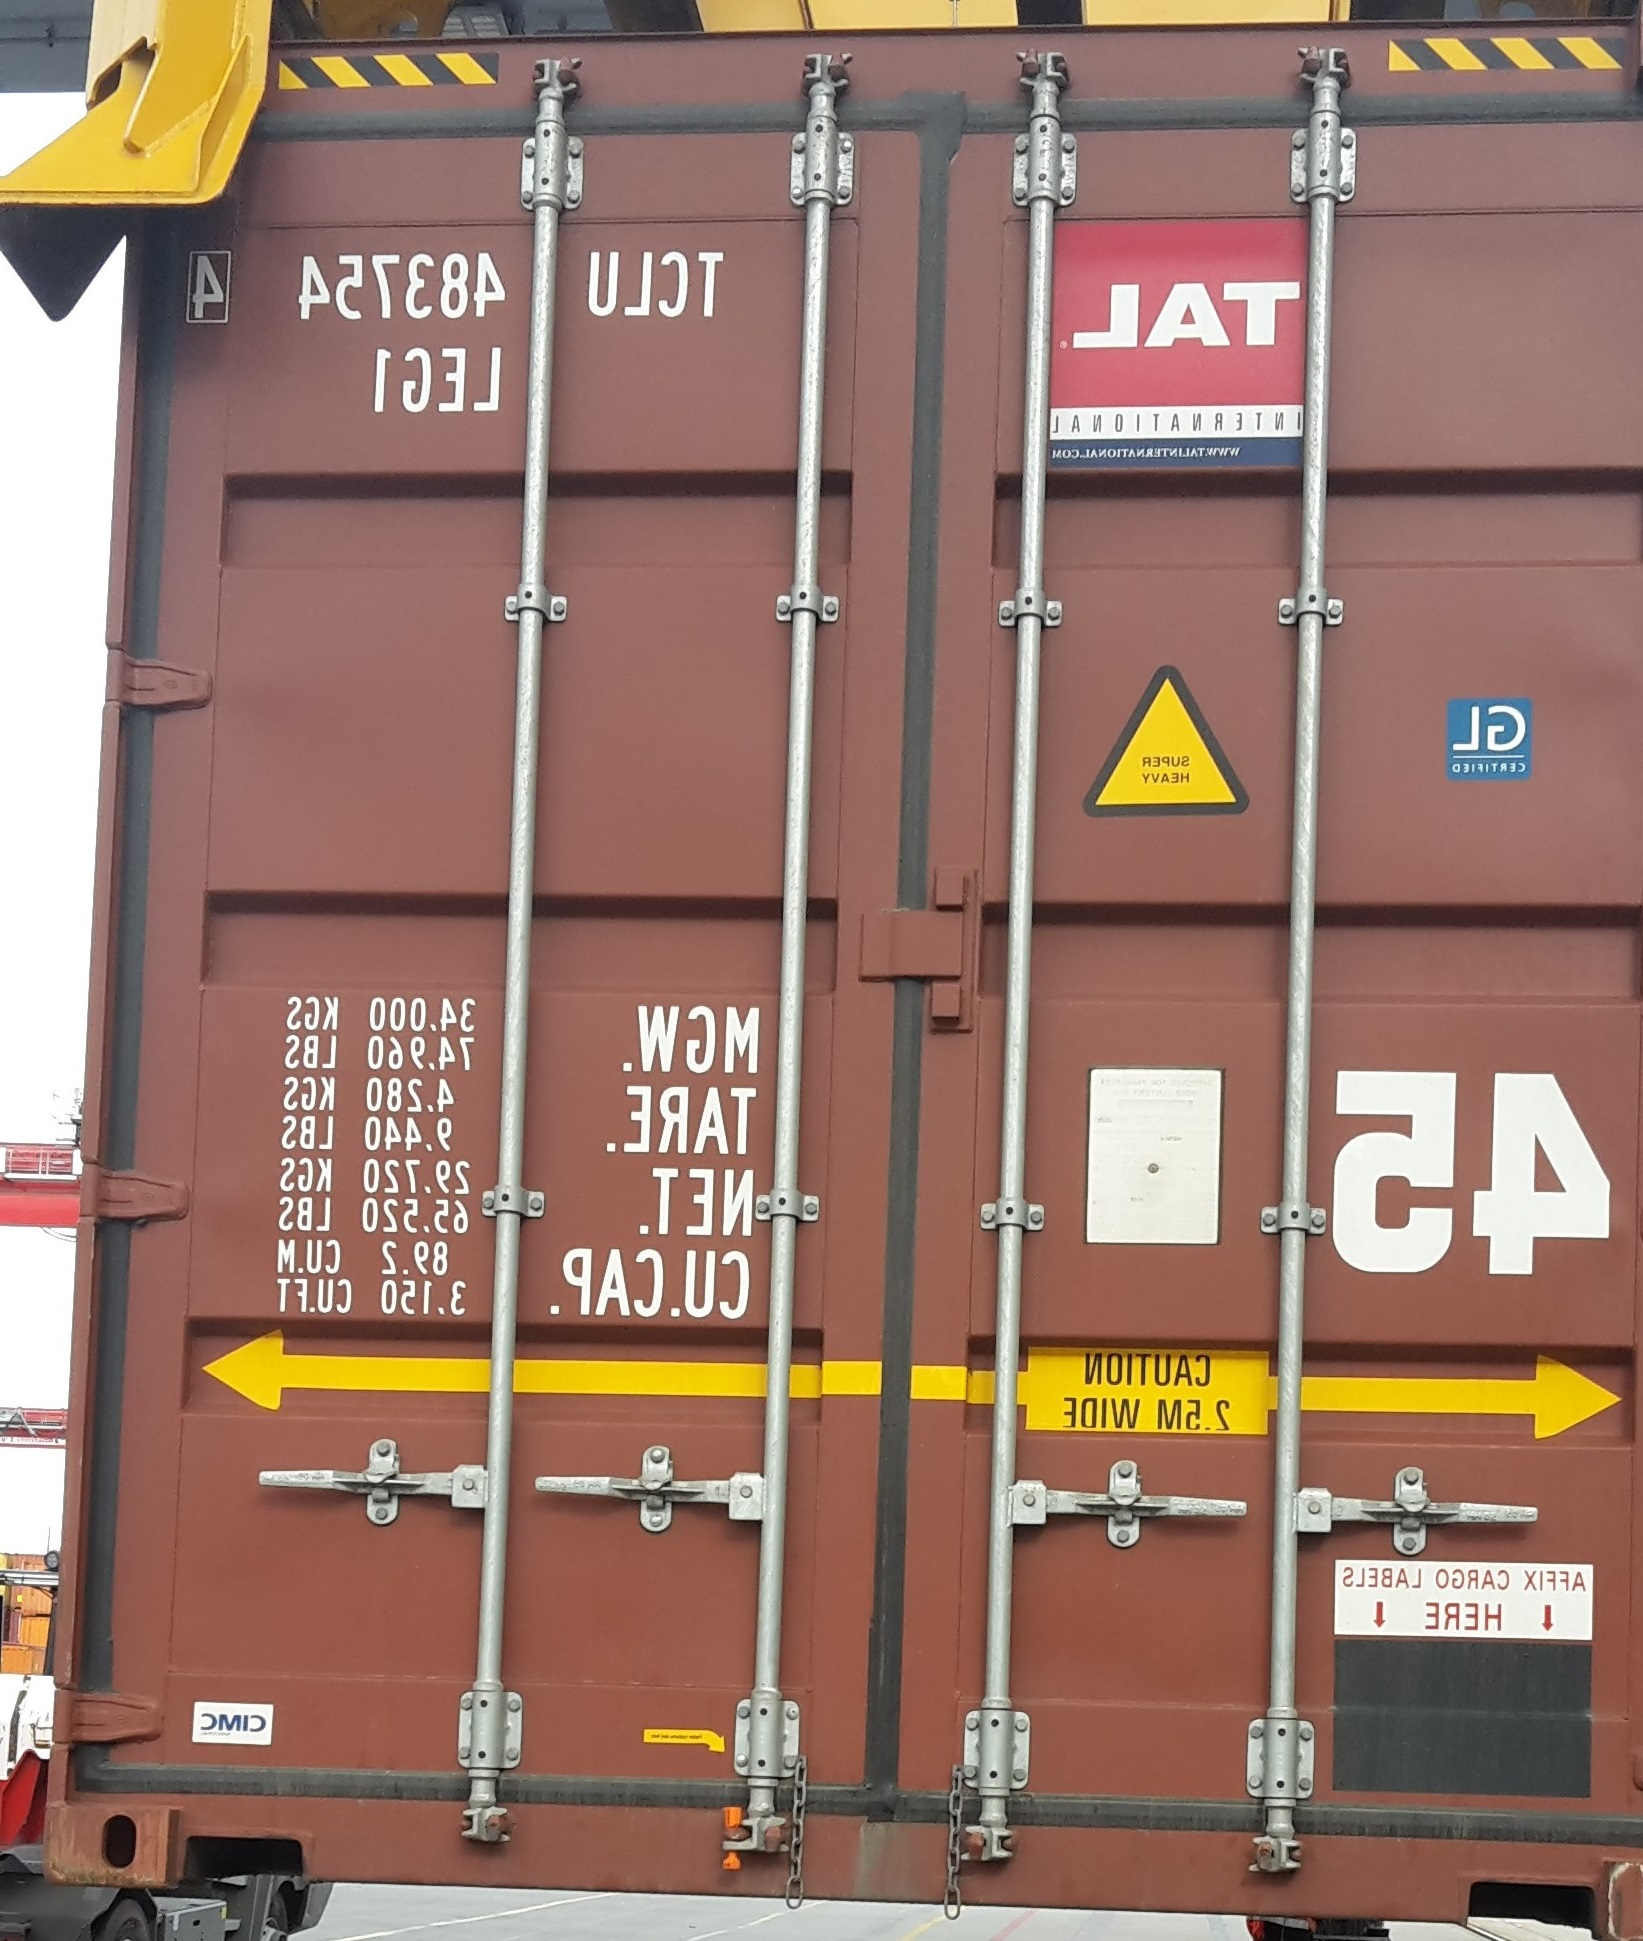container_door: (108, 34, 1635, 1930)
